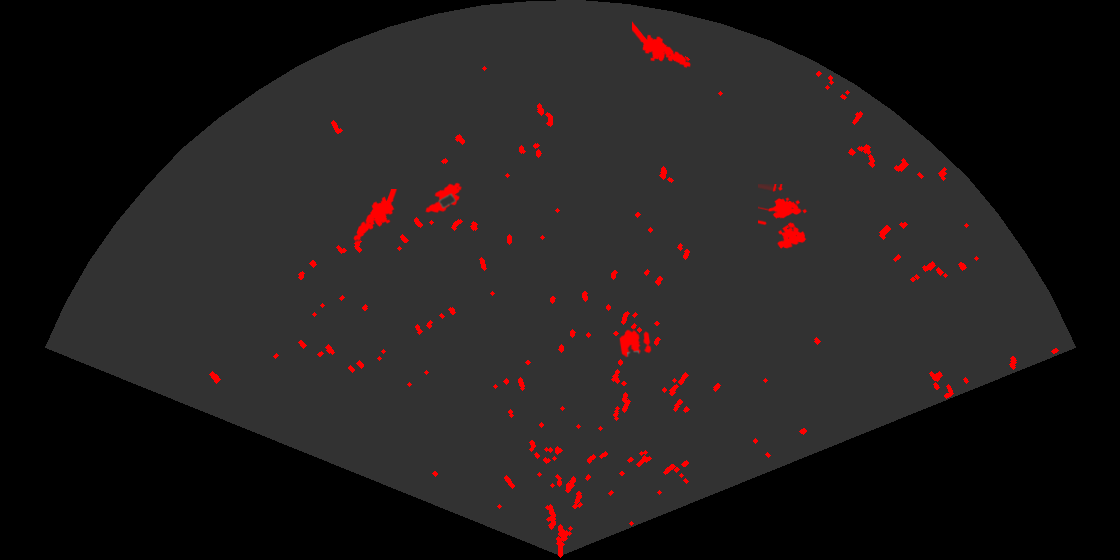AUV: (424, 181, 464, 215)
ball: (617, 328, 653, 359)
cage: (758, 184, 809, 251)
frogman: (632, 21, 692, 70), (352, 189, 399, 243)
